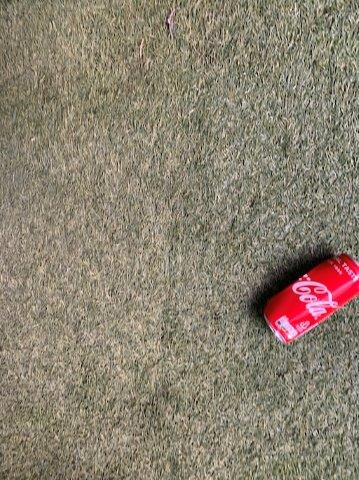kaleng: (264, 255, 359, 343)
